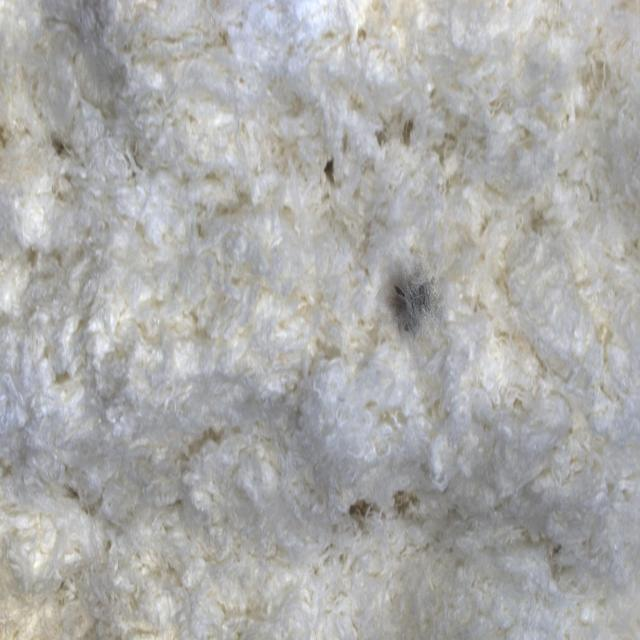dust: (336, 227, 467, 361)
